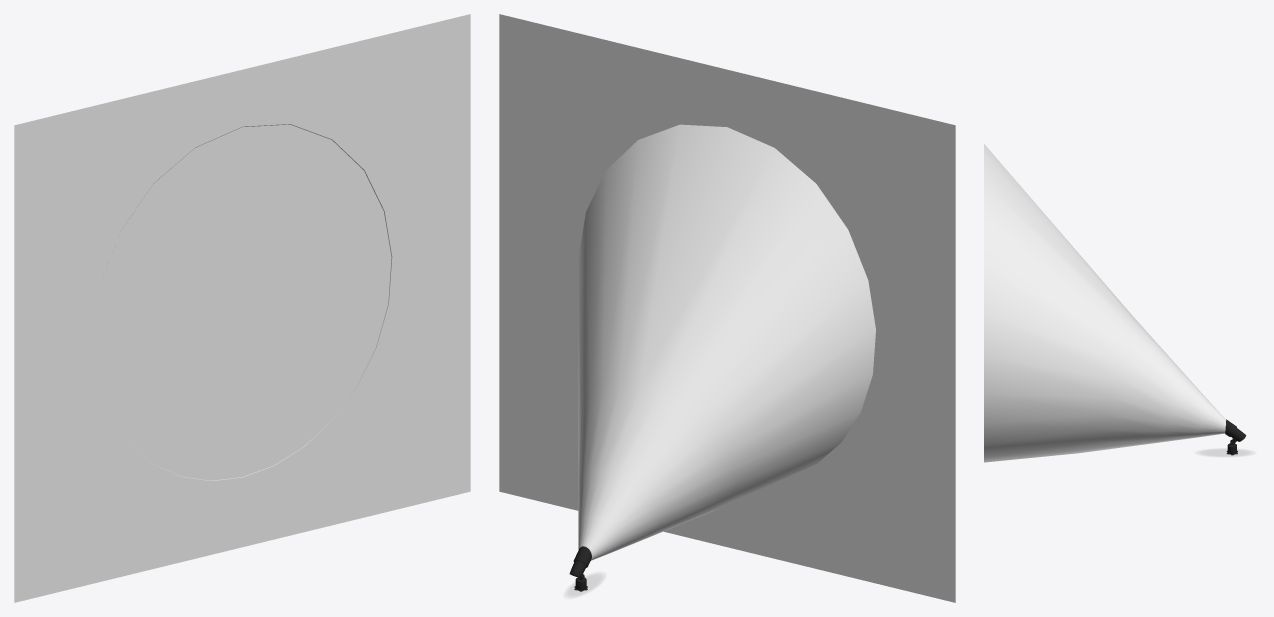
File: Accent 12V Landscape.fbx
3 views of the same model, side by side, from view 1: azimuth 30°, elevation 25°; view 2: azimuth 150°, elevation 25°; view 3: azimuth 270°, elevation 25° (orthographic). The views are drawn at different scales.
Visible parts, largest first — view 1: Light_Plane, Light_Cone_Final001; view 2: Light_Plane, Light_Cone_Final001; view 3: Light_Cone_Final001.
Part boxes in pixels (box(x1,y1,x2,y2)): Light_Plane: box(14, 14, 470, 602); Light_Cone_Final001: box(123, 124, 392, 480); Light_Plane: box(499, 14, 955, 602); Light_Cone_Final001: box(578, 124, 875, 560); Light_Cone_Final001: box(984, 144, 1226, 462).
Bounding box in the file's own units: 254 × 254 × 158.
Materials: 4 (4 with a texture image).
